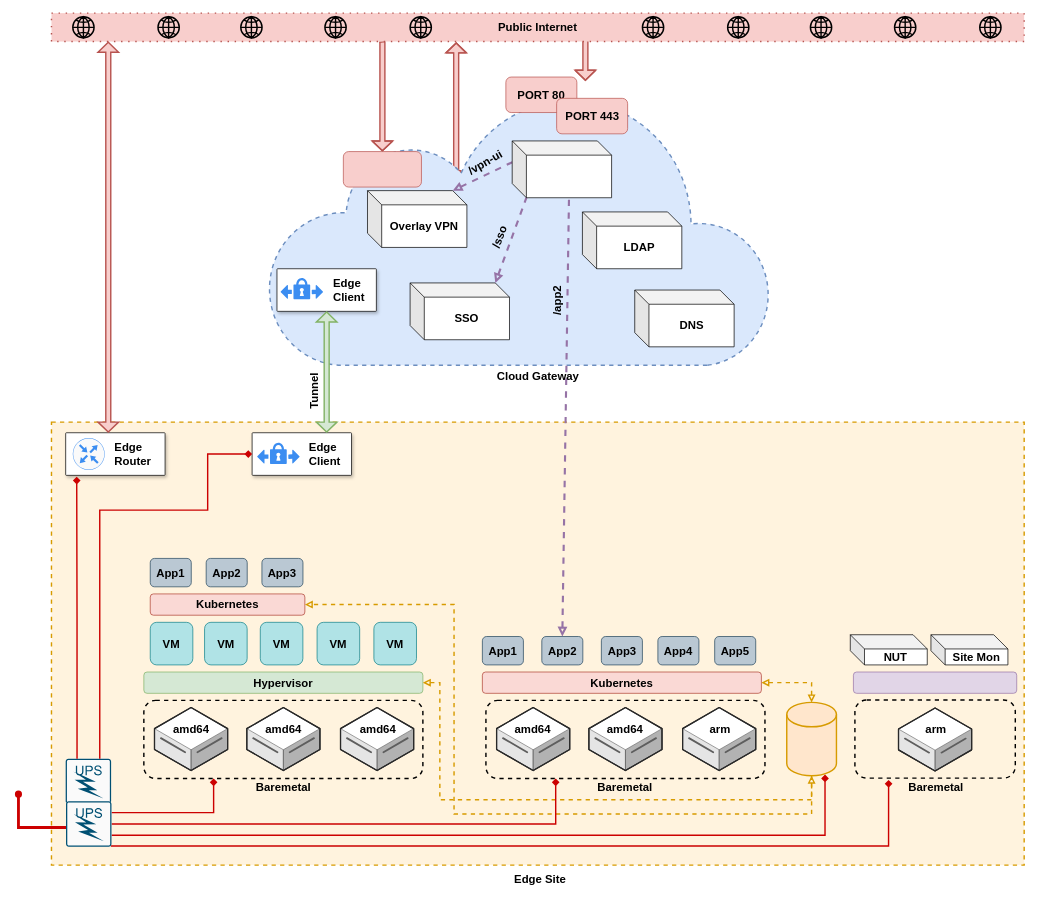
Some shapes in this 1037 by 905 pixel diagram are drawn without their labels. Each missing label, with the centre of its shape:
"Docker" belongs at point 935,682.
"NAS" belongs at point 811,738.
"PORT 51820" belongs at point 382,169.
"Rev. Proxy" belongs at point 561,169.
